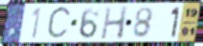1: (31, 6, 43, 40), (169, 6, 181, 39)
6: (79, 6, 101, 40)
8: (131, 6, 155, 39)
C: (45, 4, 73, 42)
H: (100, 5, 130, 40)
